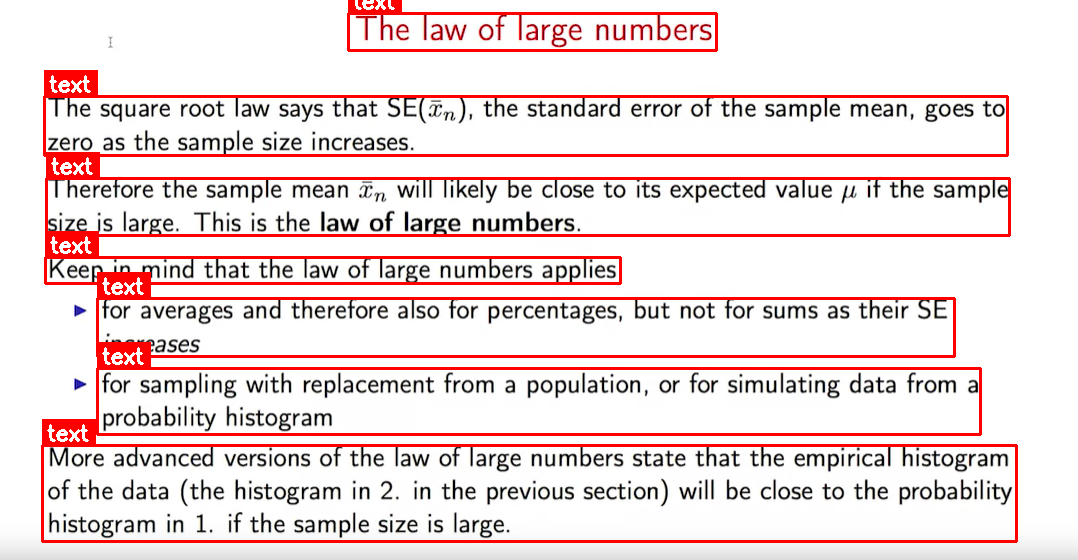text: (42, 445, 1016, 541), (97, 368, 980, 434), (44, 96, 1007, 155), (46, 178, 1009, 235), (97, 298, 954, 356), (45, 257, 620, 283), (348, 13, 716, 50)
